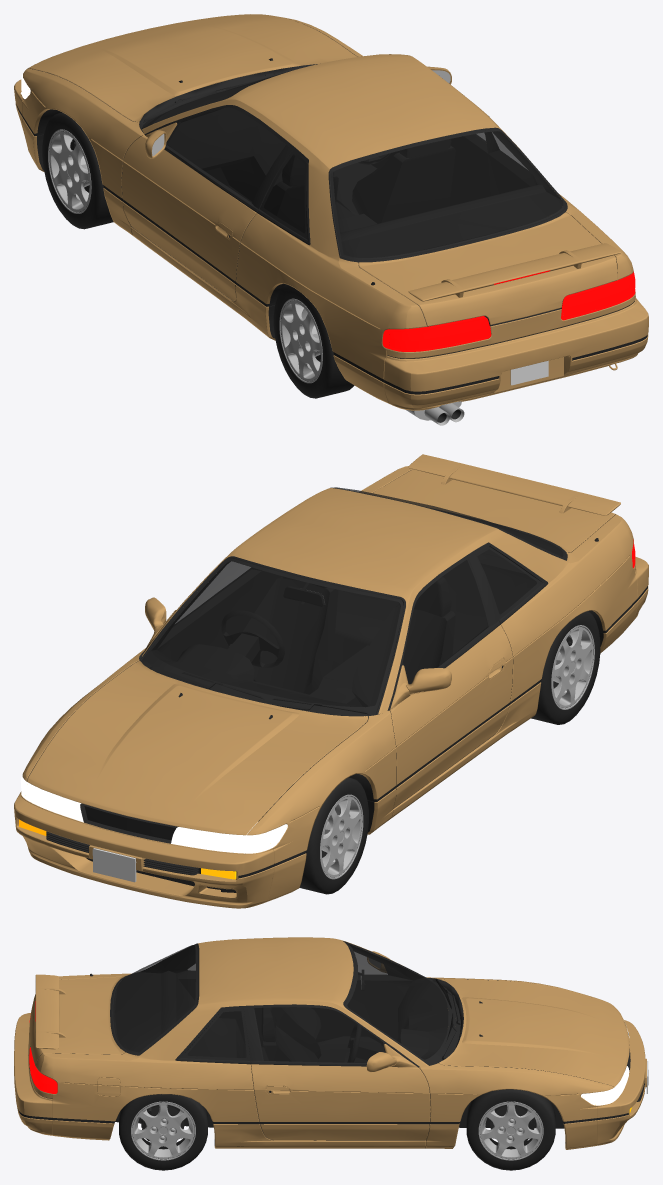
File: nissan_silvia_s13_iketani.glb
The picture shows the model from 3 angles, top to bottom: view 1: azimuth 30°, elevation 25°; view 2: azimuth 150°, elevation 25°; view 3: azimuth 270°, elevation 25°; orthographic projection. The views are drawn at different scales.
Visible parts, largest first — view 1: Object_5, Object_12, Object_10, Object_4, Object_8, Object_15, Object_25, Object_17, Object_23, Object_9, Object_13; view 2: Object_5, Object_12, Object_10, Object_4, Object_7, Object_15, Object_17, Object_25, Object_23, Object_13; view 3: Object_5, Object_12, Object_10, Object_4, Object_19, Object_23, Object_21, Object_25, Object_7, Object_8.
Boxes of the visible parts, box(x1,y1,x2,y2) form: Object_5: box(14, 14, 648, 410); Object_12: box(152, 72, 563, 257); Object_10: box(152, 84, 563, 257); Object_4: box(16, 24, 647, 422); Object_8: box(382, 270, 635, 351); Object_15: box(42, 112, 113, 229); Object_25: box(279, 298, 322, 383); Object_17: box(48, 129, 91, 213); Object_23: box(273, 284, 354, 398); Object_9: box(405, 401, 464, 425); Object_13: box(510, 360, 548, 385); Object_5: box(14, 454, 648, 908); Object_12: box(151, 487, 563, 706); Object_10: box(151, 515, 563, 706); Object_4: box(27, 470, 647, 892); Object_7: box(20, 769, 287, 853); Object_15: box(299, 777, 368, 894); Object_17: box(320, 794, 363, 879); Object_25: box(551, 625, 594, 709); Object_23: box(531, 611, 600, 724); Object_13: box(92, 848, 136, 882); Object_5: box(14, 937, 646, 1149); Object_12: box(115, 944, 448, 1062); Object_10: box(114, 944, 448, 1092); Object_4: box(18, 941, 644, 1145); Object_19: box(466, 1089, 555, 1170); Object_23: box(119, 1094, 207, 1170); Object_21: box(478, 1101, 543, 1160); Object_25: box(131, 1101, 195, 1160); Object_7: box(581, 1017, 629, 1105); Object_8: box(29, 1001, 57, 1093).
Size of the model in its own units: 0.8345 by 0.5509 by 2.01.
